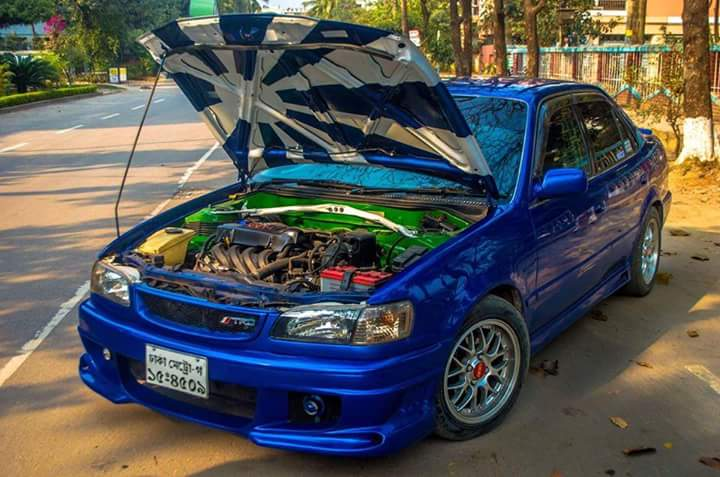registration_plate: (145, 344, 208, 398)
